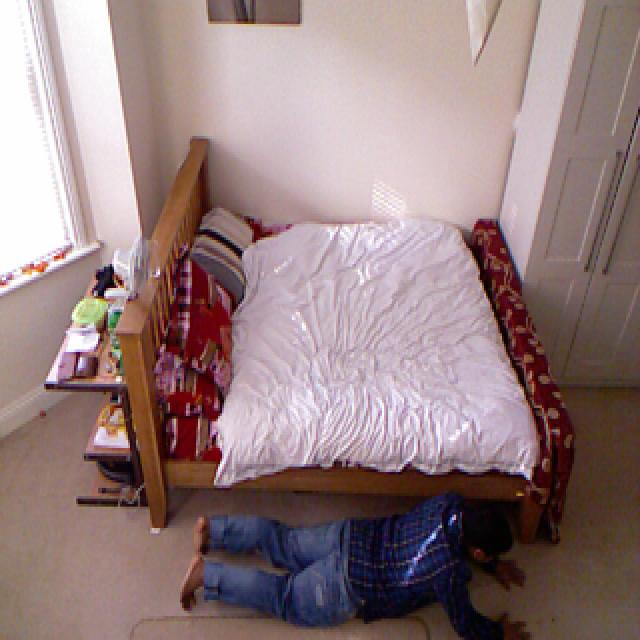lying: (180, 476, 530, 640)
